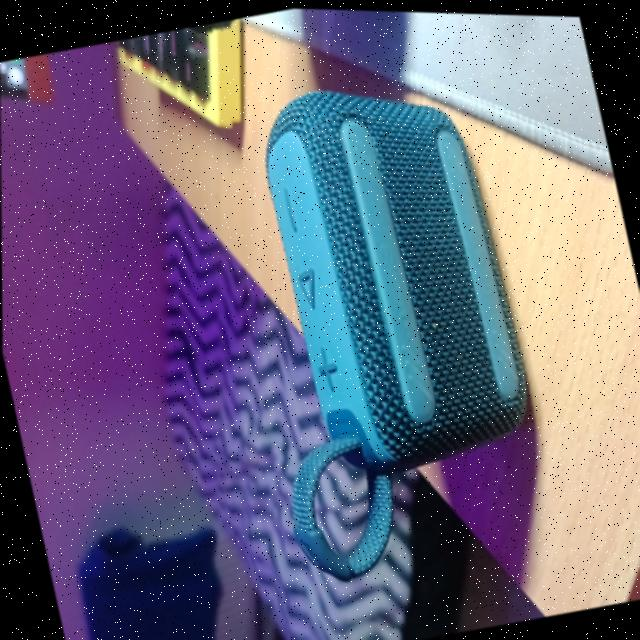column JBL: (198, 48, 564, 588)
